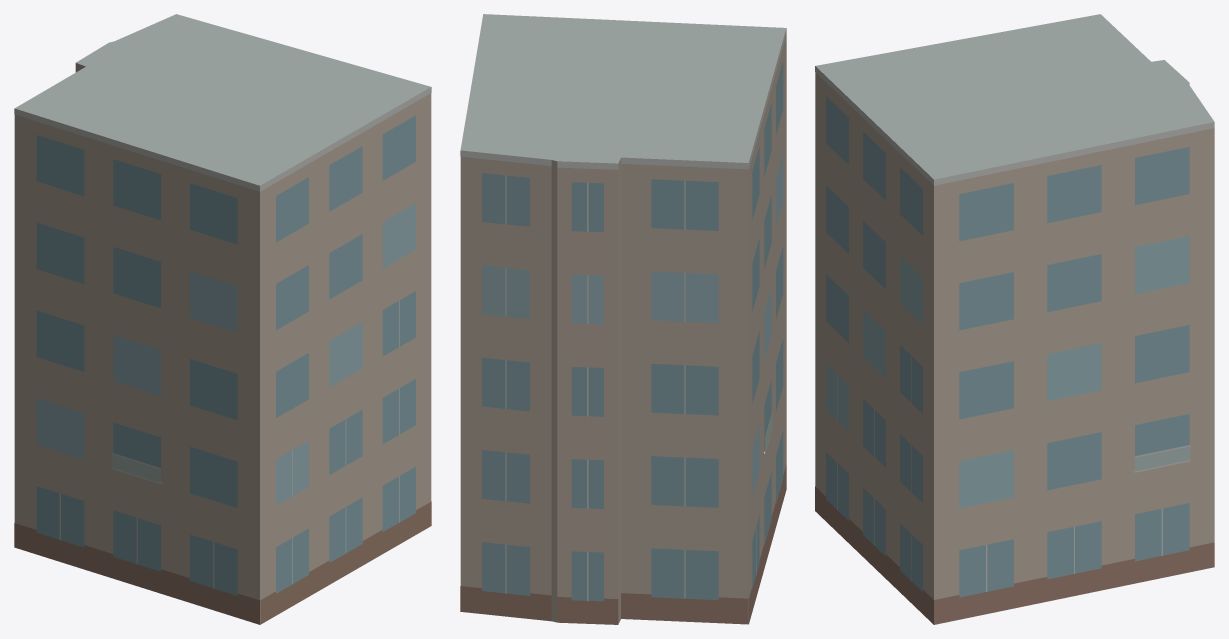
The model's file is survey-upis-32470352.glb.
3 views of the same model, side by side, from view 1: azimuth 30°, elevation 25°; view 2: azimuth 150°, elevation 25°; view 3: azimuth 270°, elevation 25° (orthographic). The views are drawn at different scales.
Parts seen in each view (by area): view 1: survey-upis-32470352.tmp; view 2: survey-upis-32470352.tmp; view 3: survey-upis-32470352.tmp.
Boxes of the visible parts, bbox=[...] form: survey-upis-32470352.tmp: bbox=[14, 14, 431, 624]; survey-upis-32470352.tmp: bbox=[460, 14, 786, 624]; survey-upis-32470352.tmp: bbox=[815, 14, 1214, 624].
Size of the model in its own units: 14.34 by 17.95 by 14.61.
